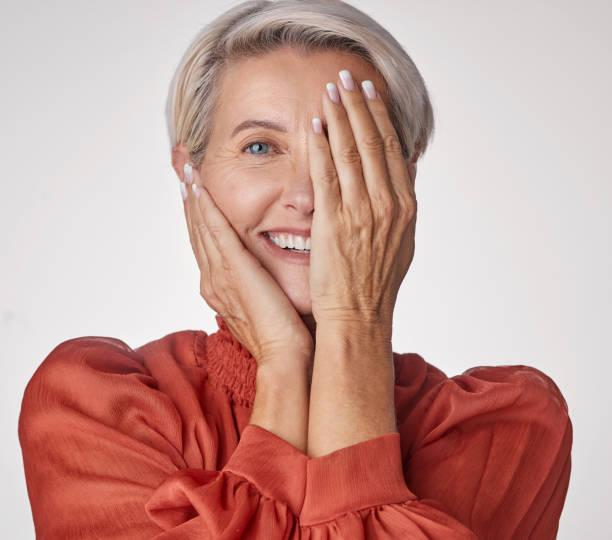Dry-Skin: (319, 214, 410, 367), (181, 147, 257, 234)
